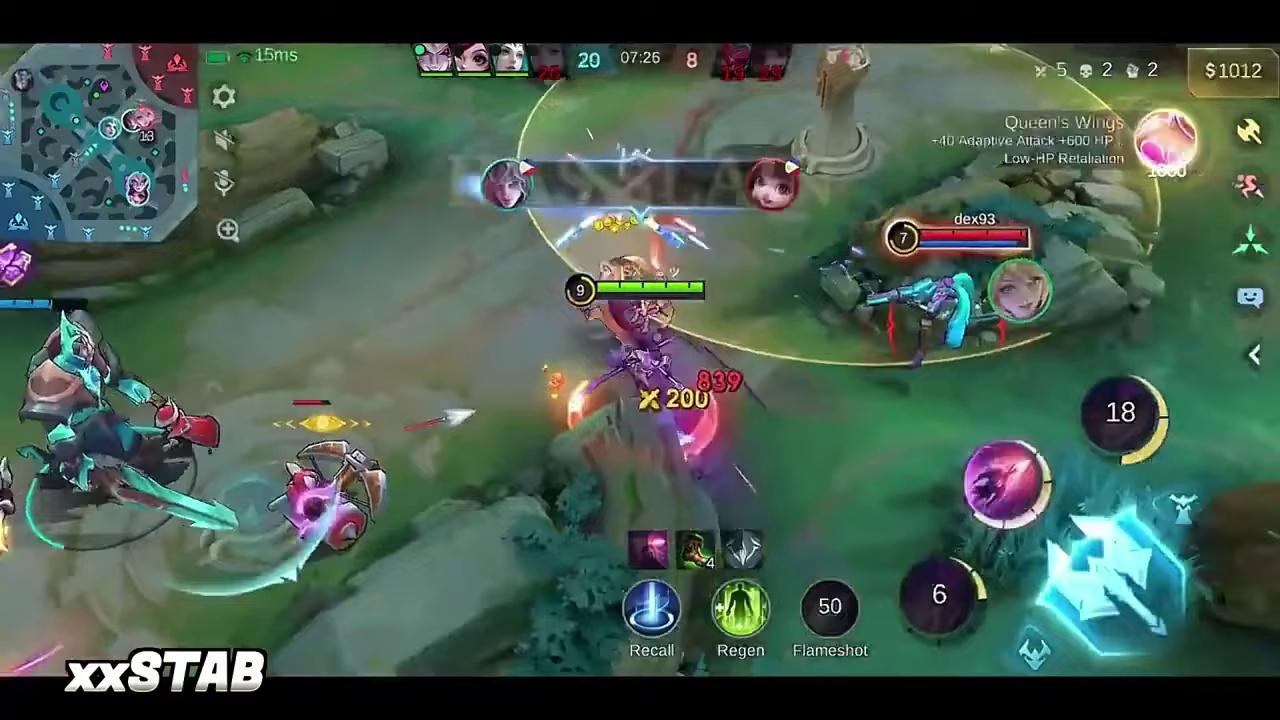hp_enemy: (921, 232, 1028, 242)
hp_self: (600, 281, 705, 290)
minion_enemy: (267, 438, 384, 546)
turret_enemy: (792, 45, 872, 173)
